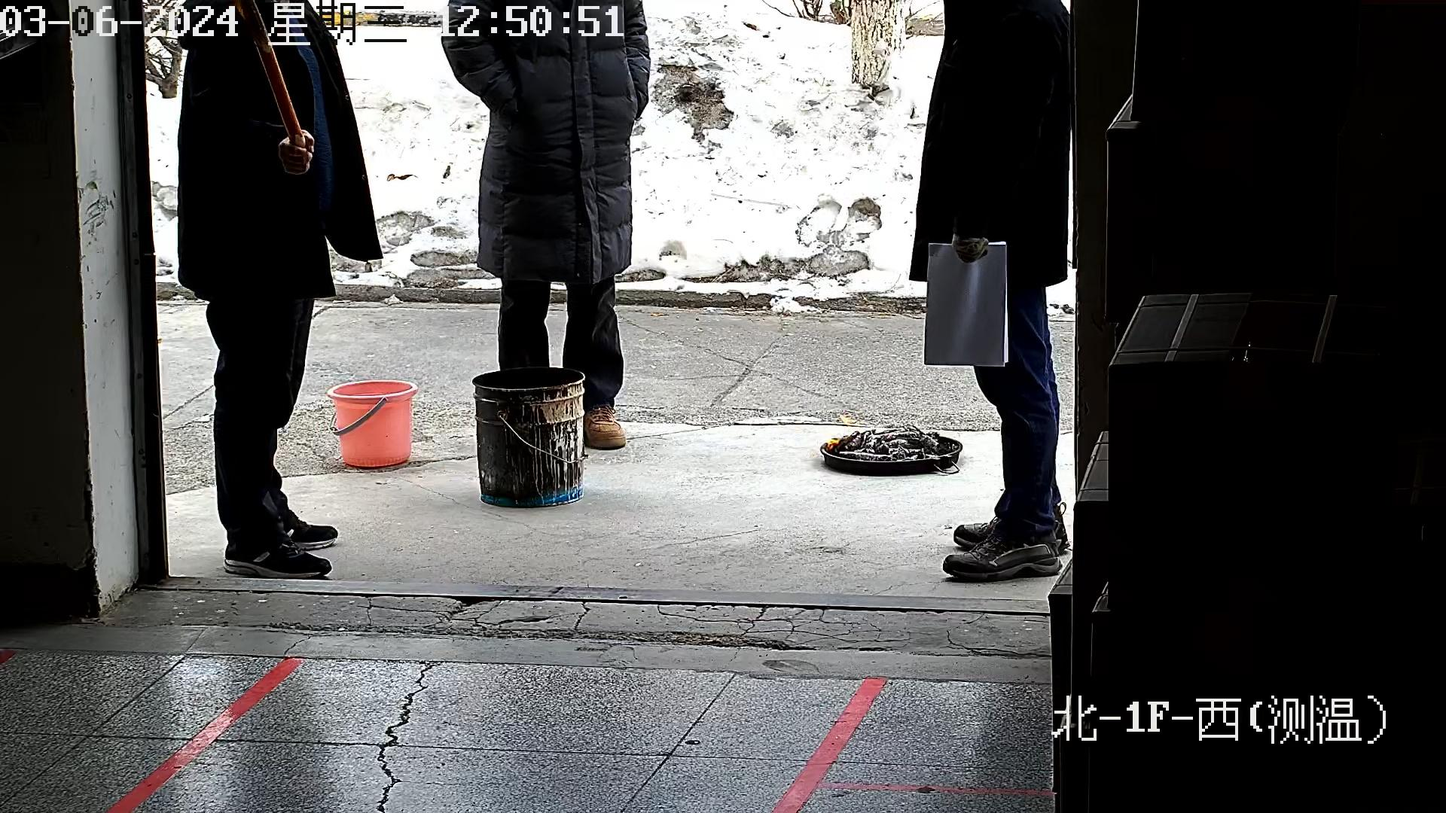fire: (837, 413, 868, 427), (826, 435, 846, 446)
